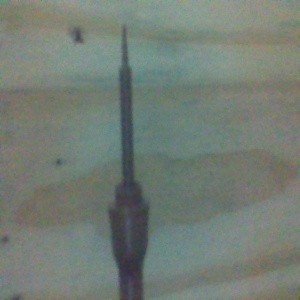solder: (106, 23, 150, 300)
